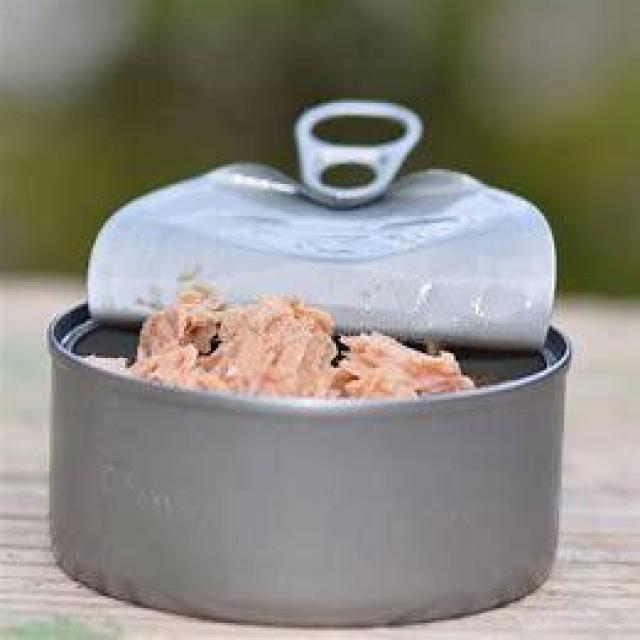can: (44, 159, 575, 630)
pop tab: (294, 98, 426, 209)
